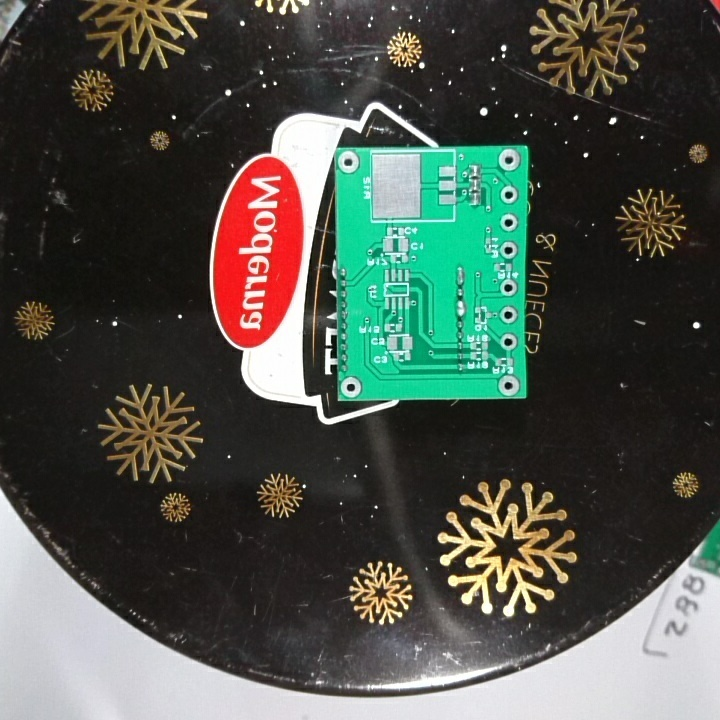F: (496, 147, 525, 174), (335, 149, 361, 176), (497, 372, 523, 397), (339, 375, 362, 399), (499, 183, 520, 206), (497, 306, 520, 327), (499, 213, 520, 235), (498, 239, 520, 260), (499, 278, 519, 300), (497, 332, 519, 352)
P: (454, 264, 468, 286), (454, 299, 469, 319)
